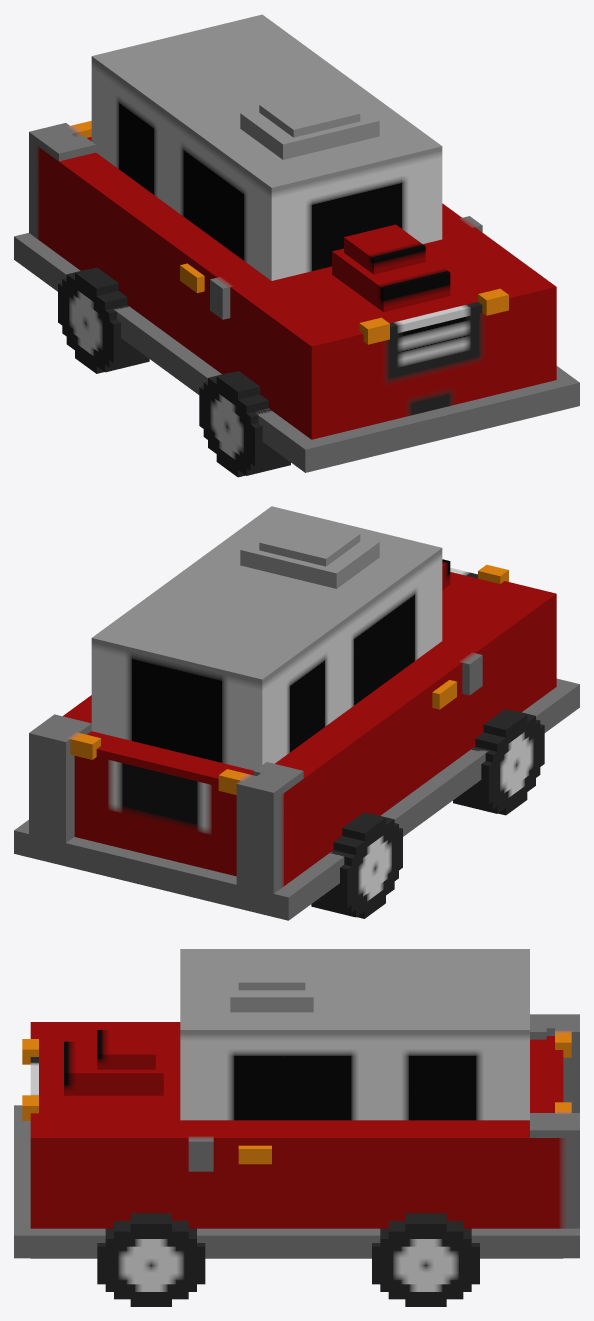
File: car_modern_1.fbx
3 renders of one model, top to bottom at view 1: azimuth 30°, elevation 25°; view 2: azimuth 150°, elevation 25°; view 3: azimuth 270°, elevation 25°, orthographic. The views are drawn at different scales.
Visible parts, largest first — view 1: body, back_right_wheel, back_left_wheel; view 2: body, back_right_wheel, back_left_wheel; view 3: body, front_right_wheel, front_left_wheel.
Boxes of the visible parts, box(x1,y1,x2,y2) form: body: box(14, 14, 579, 472); back_right_wheel: box(199, 371, 290, 477); back_left_wheel: box(58, 267, 149, 373); body: box(14, 506, 579, 920); back_right_wheel: box(453, 709, 544, 815); back_left_wheel: box(311, 812, 402, 918); body: box(14, 949, 579, 1258); front_right_wheel: box(97, 1213, 205, 1306); front_left_wheel: box(372, 1213, 479, 1306).
Bounding box in the file's own units: 39 × 36 × 68.
Materials: 1 (1 with a texture image).
